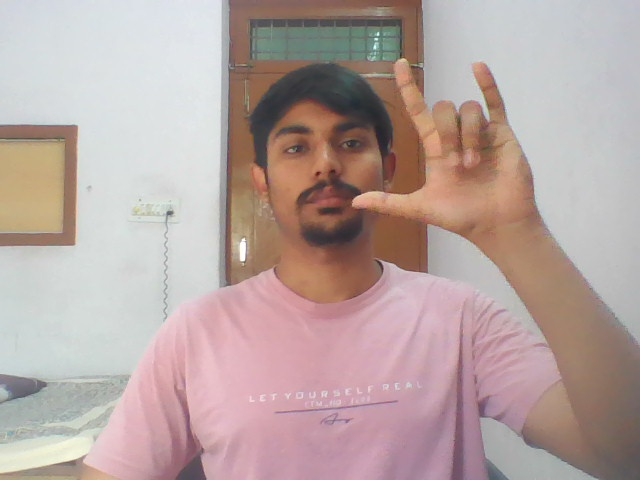I Love You: (346, 51, 572, 229)
